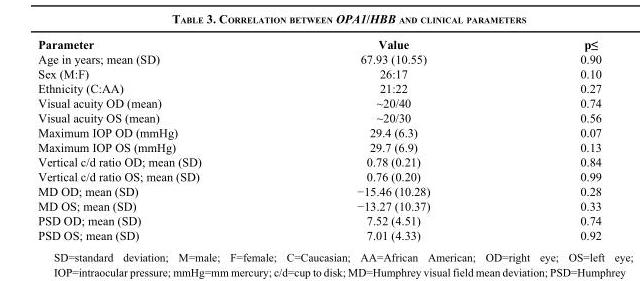table: (37, 37, 600, 241)
table column: (37, 37, 278, 241), (278, 37, 504, 241), (504, 37, 600, 241)
table column header: (37, 37, 600, 51)
table row: (37, 65, 600, 80), (37, 80, 600, 95), (37, 95, 600, 110), (37, 124, 600, 139), (37, 139, 600, 154), (37, 168, 600, 183), (37, 183, 600, 198), (37, 212, 600, 227), (37, 37, 600, 51), (37, 51, 600, 65), (37, 110, 600, 124), (37, 154, 600, 168), (37, 198, 600, 212), (37, 227, 600, 241)
